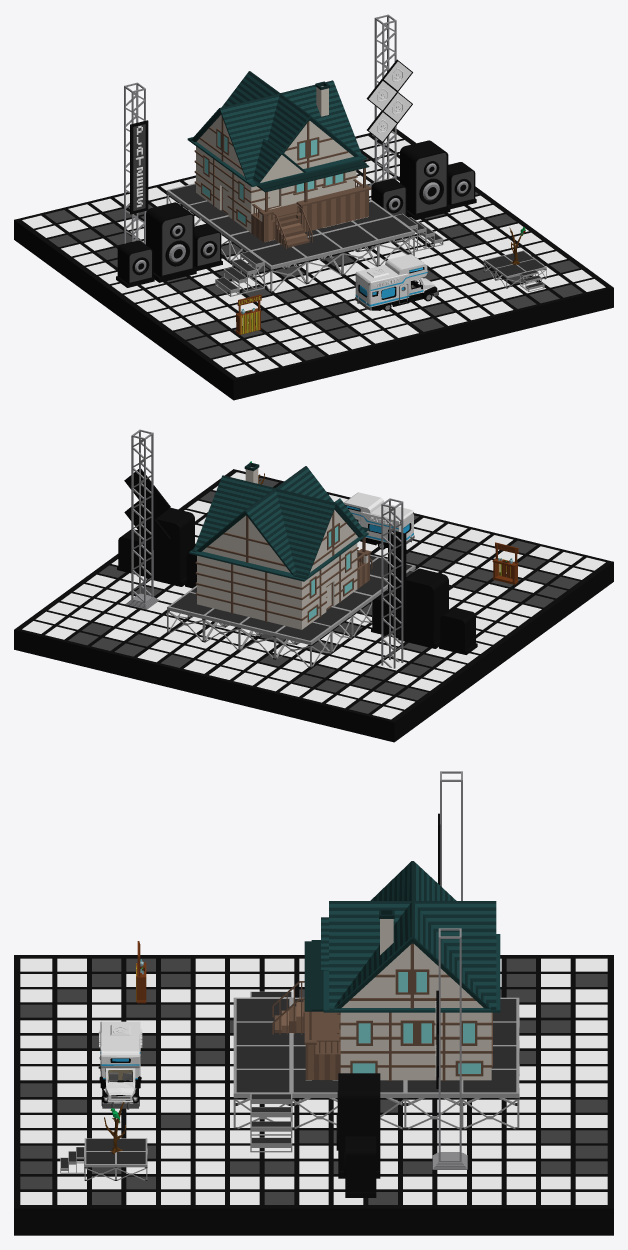
3 views of the same model, one above another, from view 1: azimuth 30°, elevation 25°; view 2: azimuth 150°, elevation 25°; view 3: azimuth 270°, elevation 25° (orthographic). The views are drawn at different scales.
Parts seen in each view (by area): view 1: Cube.008, Cube.793, VEHICLES_CAMPER, OBJRANDOM_LEMONADE_STAND; view 2: Cube.008, Cube.793, VEHICLES_CAMPER, OBJRANDOM_LEMONADE_STAND; view 3: Cube.008, Cube.793, VEHICLES_CAMPER.
Part boxes in pixels (left/top/right/bottom): Cube.008: left=14, top=14, right=613, bottom=400; Cube.793: left=187, top=71, right=371, bottom=248; VEHICLES_CAMPER: left=355, top=254, right=438, bottom=311; OBJRANDOM_LEMONADE_STAND: left=235, top=294, right=261, bottom=335; Cube.008: left=14, top=429, right=613, bottom=742; Cube.793: left=189, top=462, right=372, bottom=629; VEHICLES_CAMPER: left=344, top=492, right=414, bottom=549; OBJRANDOM_LEMONADE_STAND: left=492, top=542, right=518, bottom=584; Cube.008: left=14, top=771, right=613, bottom=1235; Cube.793: left=272, top=861, right=500, bottom=1080; VEHICLES_CAMPER: left=98, top=1021, right=142, bottom=1109.
Size of the model in its own units: 4000 by 1950 by 4000.
41 materials, 2 textured.
